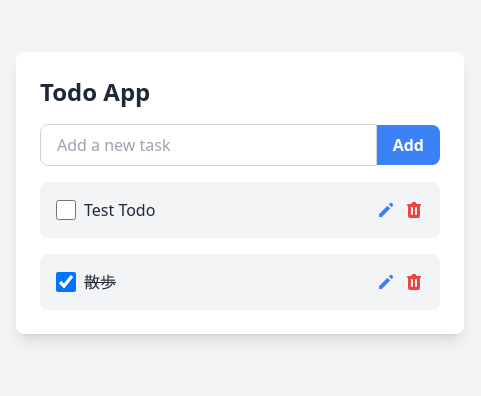
Test: TodoApp › Todoアイテムを編集する
The image size is (481, 396).
Type "編集前のタスク" into the field with placeholder "Add a new task". click: (208, 145)
box: [40,124,377,166]
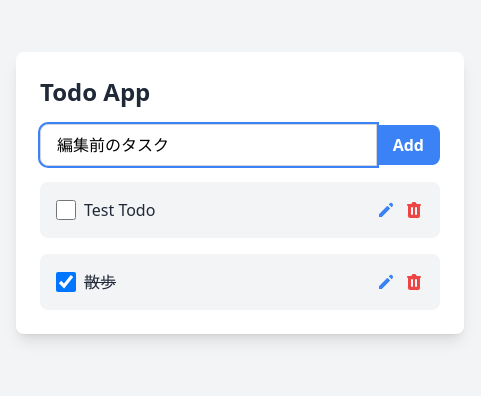
Click the button "Add". click: (408, 145)
box: [377,125,440,165]
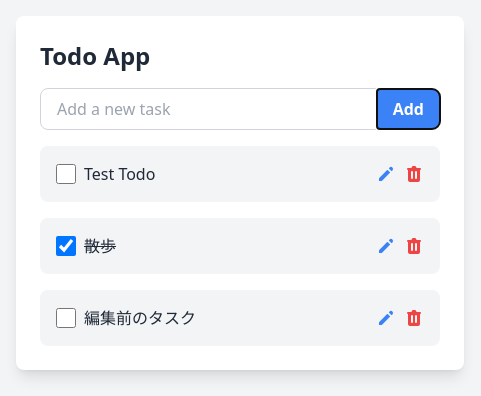
# 編集ボタンをクリック
Click the button named "編集" in the row of "編集前のタスク". click: (386, 318)
box: [376,308,396,328]
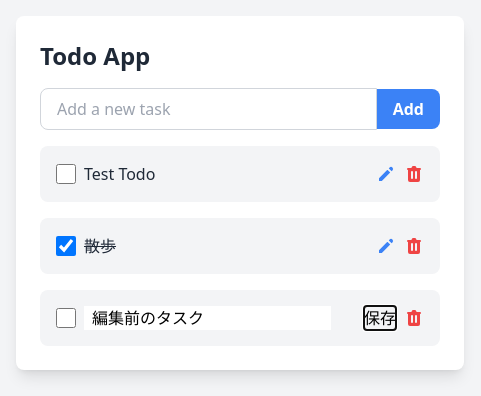
Replace the text in the field showing "編集前のタスク" with "編集後のタスク". click: (208, 318)
box: [84,306,331,330]
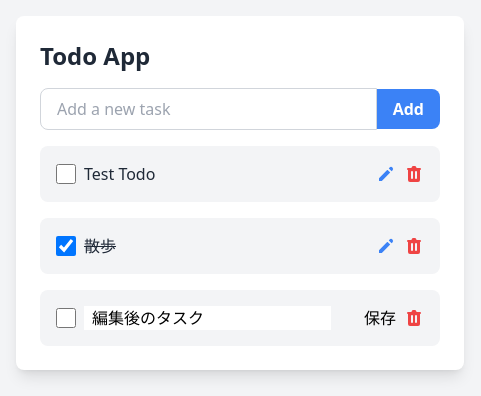
# // 保存ボタンをクリック
Click the button "保存". click: (380, 318)
box: [364,306,396,330]
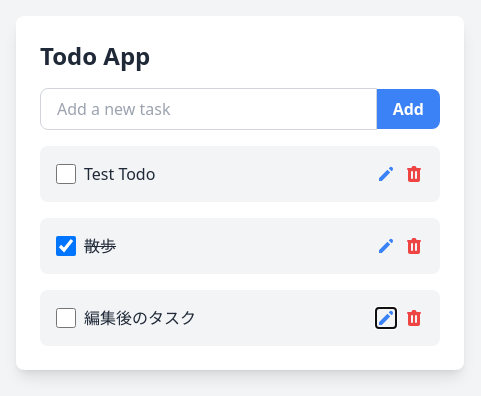
Expected: the text "編集後のタスク" is shown, [84,306,196,330]
